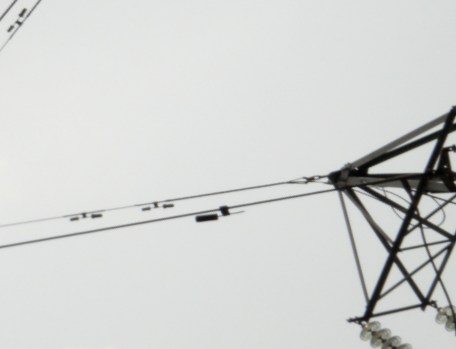damper: (139, 200, 175, 212), (68, 210, 104, 221)
damper_defect: (193, 205, 246, 225)
